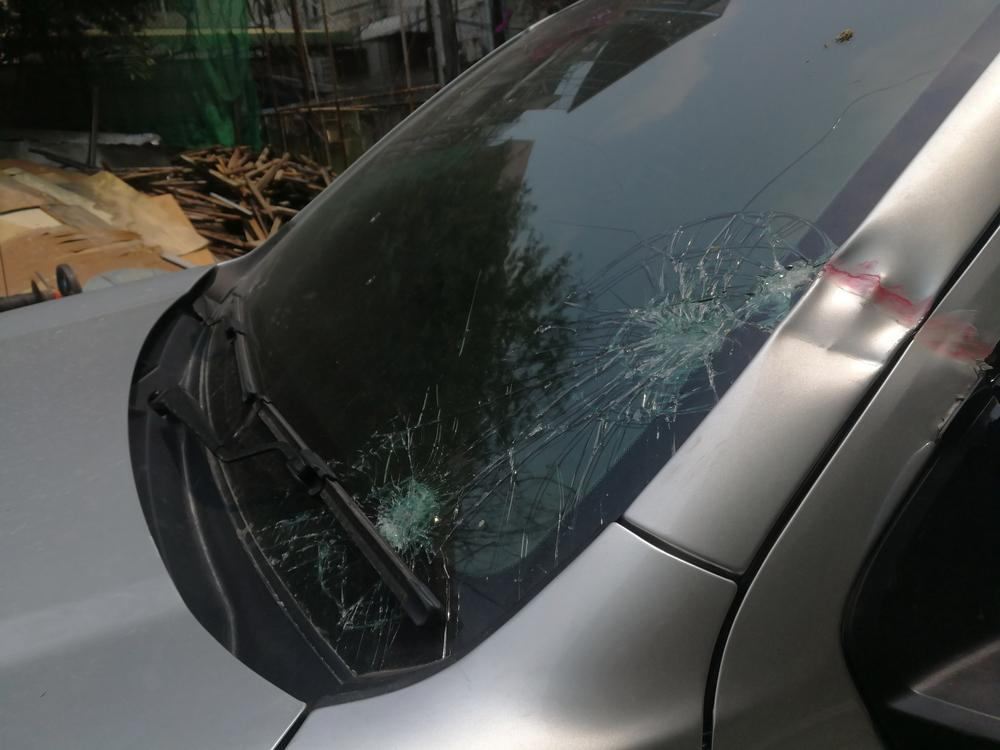dent: (770, 218, 941, 378)
glass shatter: (208, 0, 1000, 675)
